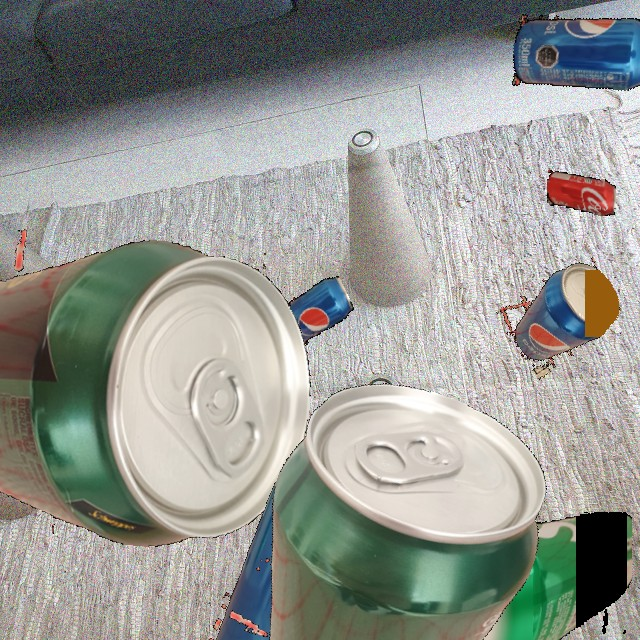coca cola: (545, 170, 616, 217)
pepsi: (178, 442, 431, 640), (494, 0, 640, 132), (495, 251, 632, 380), (259, 272, 359, 358)
schweppes: (191, 353, 576, 640), (0, 219, 321, 559)
sprite: (431, 512, 632, 640)
